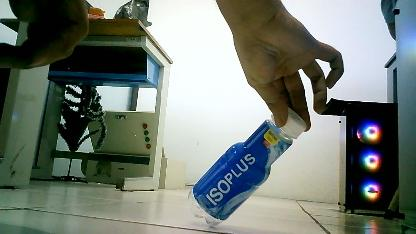Plastic Bottle: (177, 102, 309, 229)
